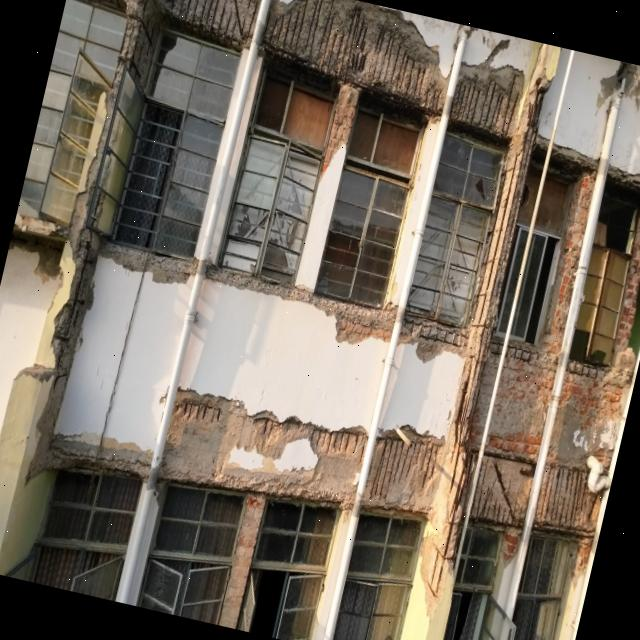spalling: (442, 43, 548, 463), (469, 176, 595, 456), (161, 389, 365, 510), (262, 0, 443, 113), (207, 265, 394, 343), (362, 429, 465, 526), (548, 376, 628, 477), (164, 0, 259, 49), (611, 211, 640, 364), (451, 76, 518, 141), (539, 466, 589, 534), (400, 313, 469, 352), (473, 459, 517, 520), (94, 436, 150, 479), (47, 433, 97, 467), (148, 253, 196, 279), (112, 245, 140, 267)
